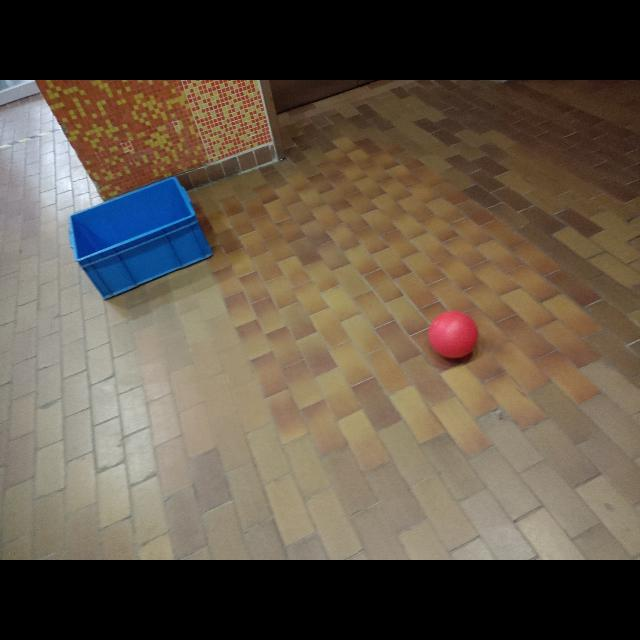R: (424, 308, 484, 364)
